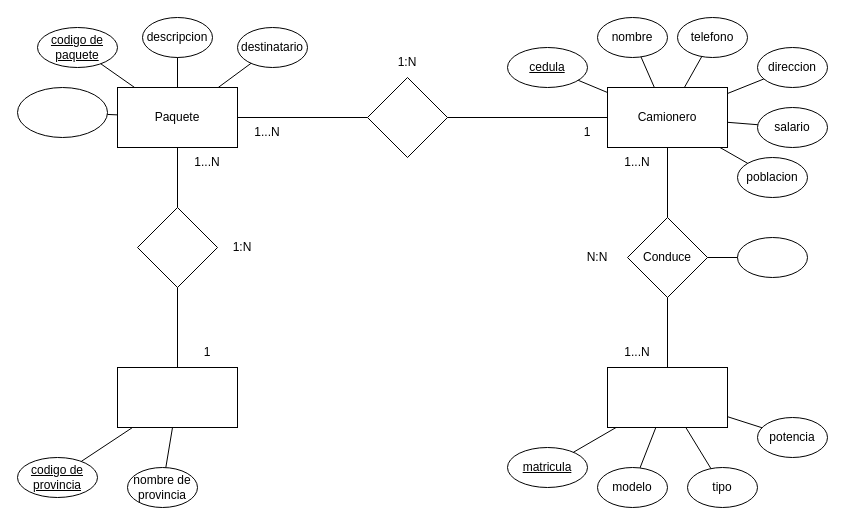
The diagram is 845 pixels wide and 525 high, and some of its shapes have lost their labels. The centre of each missing label's shape, as x and y in pixels:
Camion: pixel 667 397
direccion de destinatario: pixel 62 112
Distribuye: pixel 407 117
fecha: pixel 772 257
Llega: pixel 177 247
Provincia: pixel 177 397
